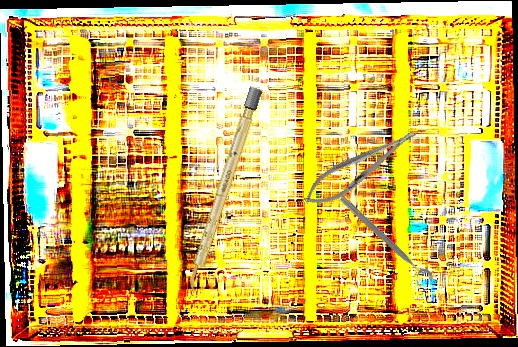Fixation Ring: (332, 193, 436, 291)
Needle Holder: (297, 120, 424, 215)
Scalpel Handle: (184, 85, 263, 294)
